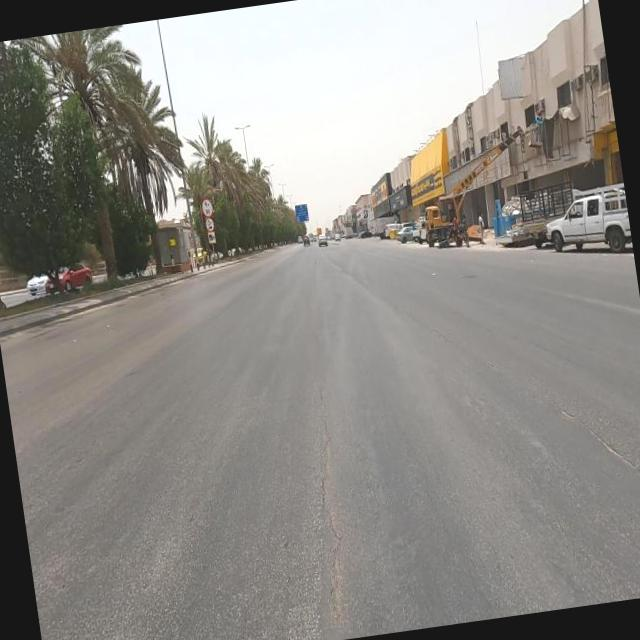debris: (478, 89, 580, 210), (421, 142, 530, 216), (351, 185, 413, 238)
